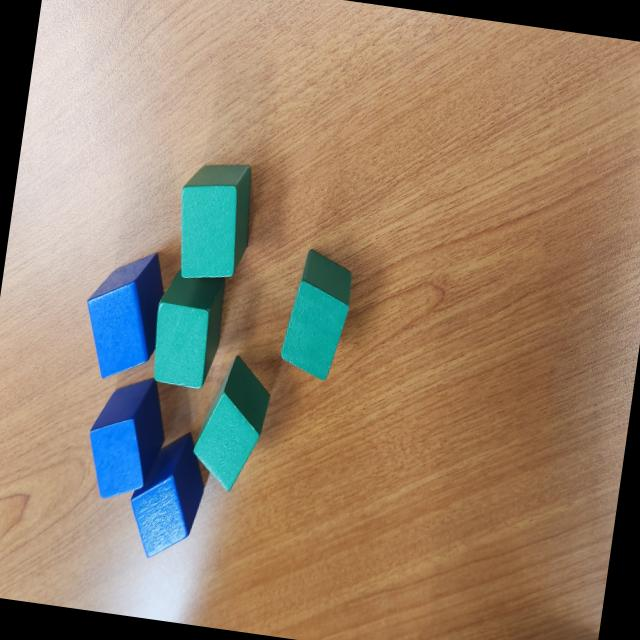blue: (76, 243, 170, 386), (82, 370, 174, 508), (122, 426, 212, 564)
green: (186, 350, 276, 494), (170, 156, 260, 286), (144, 266, 230, 394), (278, 246, 357, 384)
